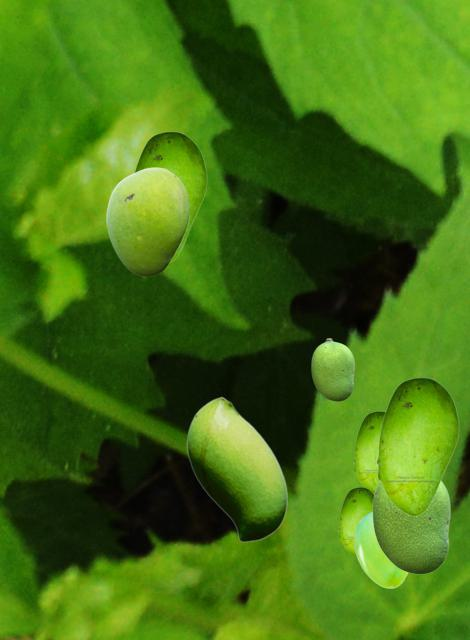green_mango: (186, 396, 286, 541), (376, 377, 458, 515), (134, 131, 206, 263), (106, 167, 188, 275), (372, 481, 449, 573), (354, 511, 408, 587), (311, 338, 353, 400), (353, 411, 384, 491), (338, 487, 373, 555)
